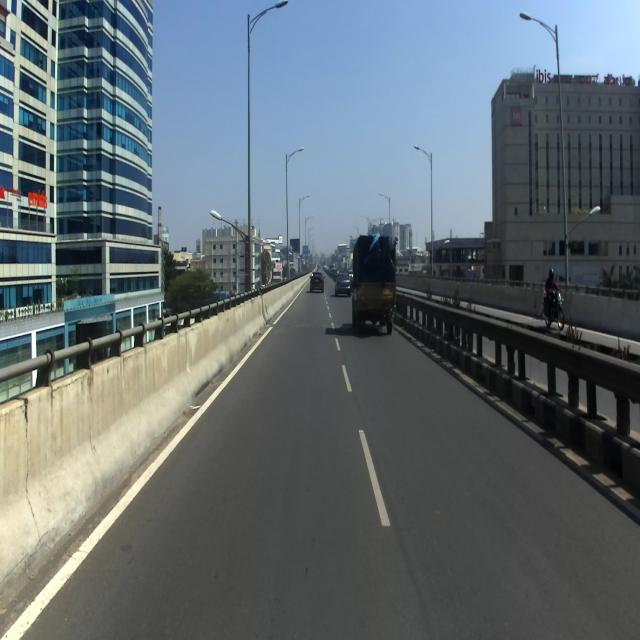truck ahead at: (346, 234, 405, 340)
